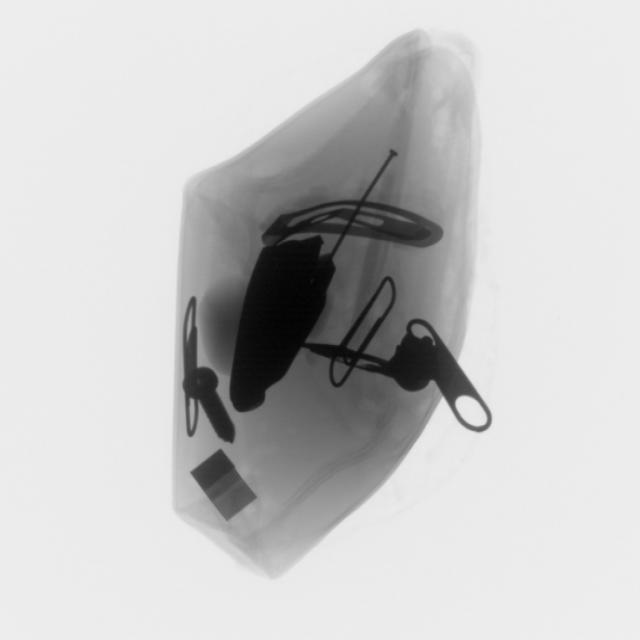BLADE: (267, 187, 453, 261)
